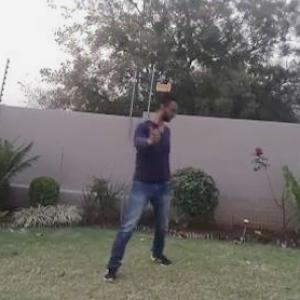takeoff-hand: (144, 112, 165, 149)
